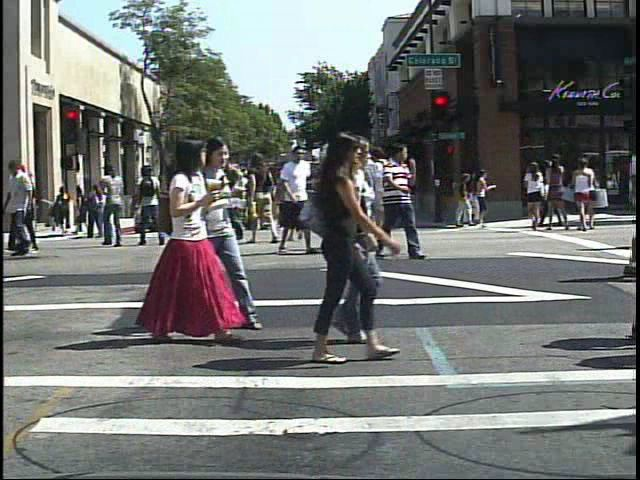person: (289, 128, 386, 367), (300, 138, 397, 348), (146, 129, 227, 345), (200, 130, 255, 331), (379, 136, 426, 261), (366, 136, 412, 260), (275, 138, 317, 259), (350, 137, 390, 251), (371, 141, 409, 250), (132, 159, 172, 252), (245, 149, 280, 244), (281, 147, 313, 248), (97, 161, 133, 250), (521, 157, 549, 235), (273, 165, 294, 233), (58, 183, 79, 233)
